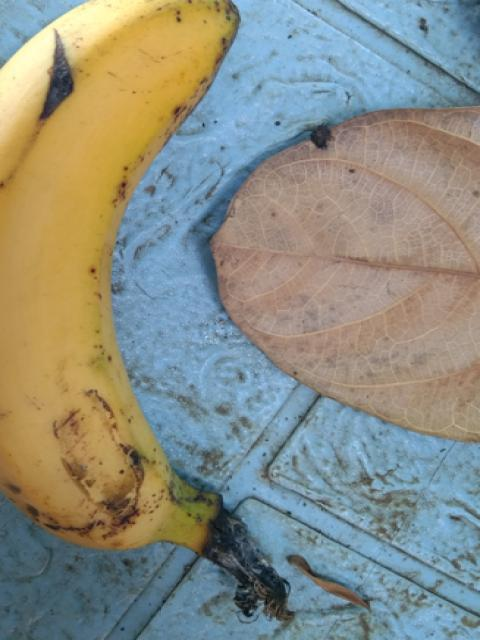ripe: (0, 0, 270, 584)
